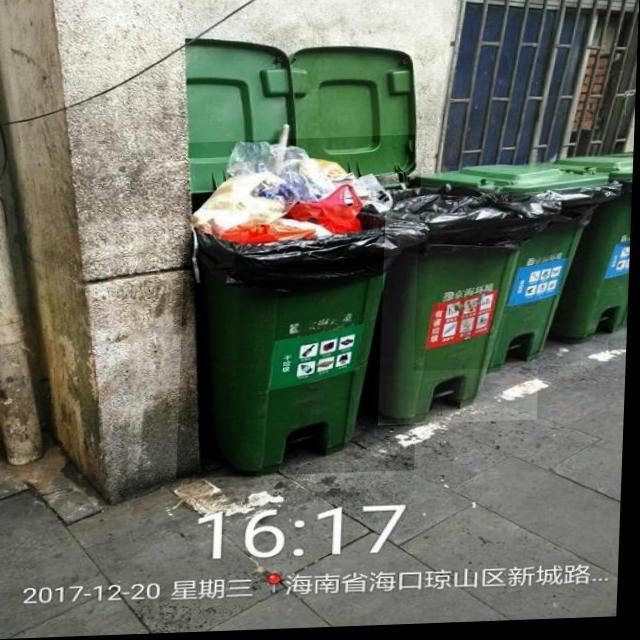garbage_bin: (417, 165, 617, 374), (381, 188, 547, 429), (555, 158, 633, 345)
overflow: (180, 137, 428, 481)
